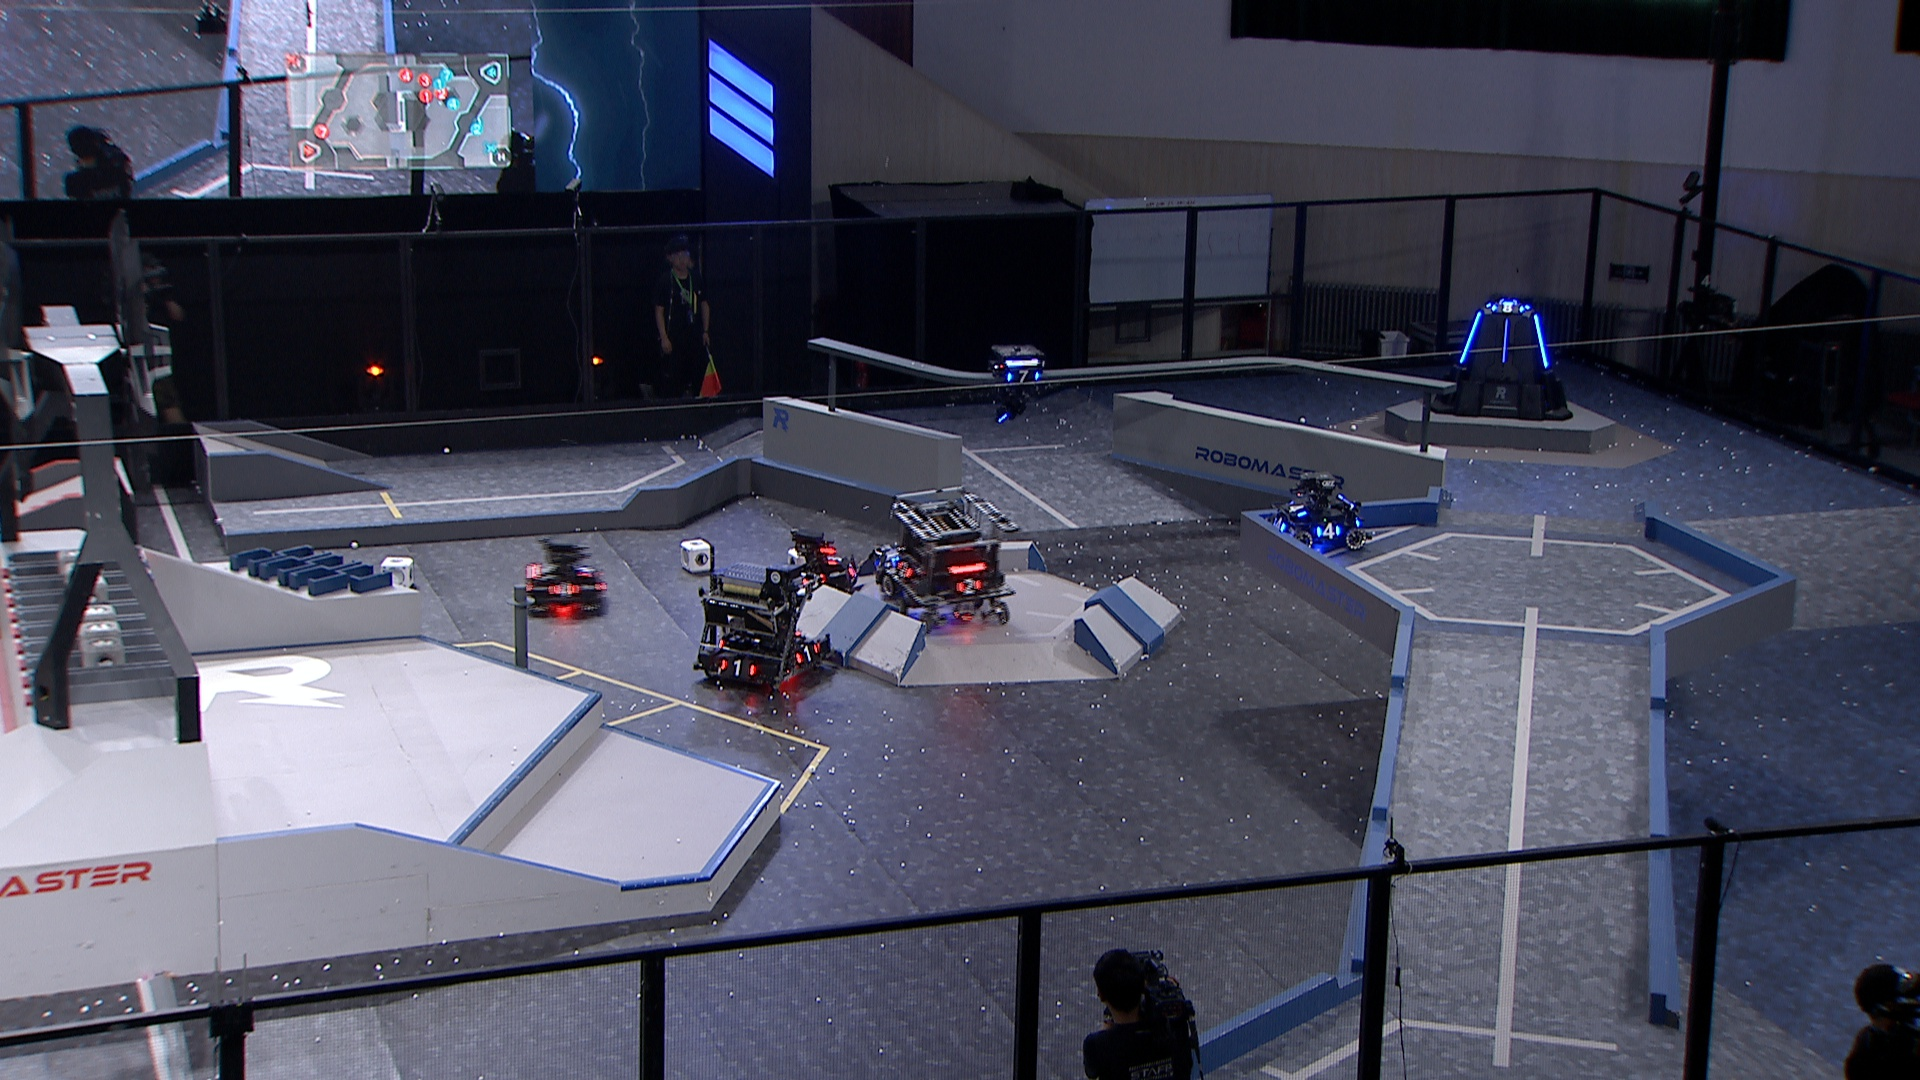armor: (1458, 309, 1484, 367), (1532, 311, 1552, 371), (717, 655, 760, 680), (1002, 367, 1040, 386), (793, 644, 822, 669), (1487, 301, 1527, 315), (953, 578, 982, 597), (1315, 522, 1342, 541), (550, 580, 578, 599), (894, 560, 916, 583), (1286, 500, 1309, 520), (1501, 319, 1510, 367), (575, 562, 596, 579), (1269, 513, 1286, 533), (825, 551, 844, 568), (847, 560, 860, 582)
base: (1427, 299, 1576, 423)
car: (880, 485, 1021, 632), (694, 564, 831, 695), (1266, 469, 1370, 553), (517, 537, 607, 618), (778, 526, 860, 608)
watcher: (986, 342, 1048, 423)
